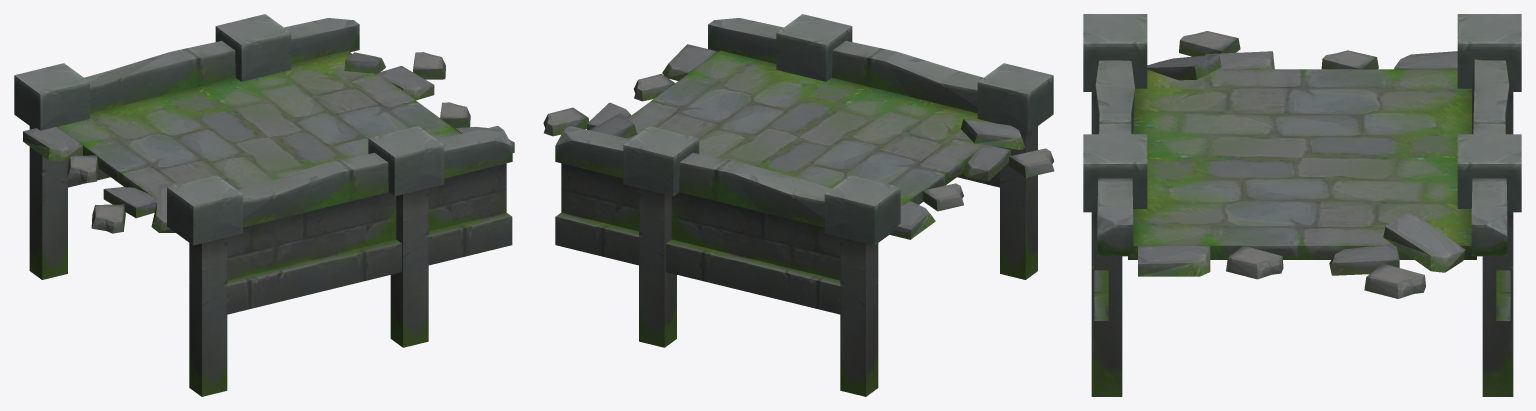
The model's file is scene_shenmisenlin_ssq01.FBX.
3 renders of one model, left to right at view 1: azimuth 30°, elevation 25°; view 2: azimuth 150°, elevation 25°; view 3: azimuth 270°, elevation 25°, orthographic. The views are drawn at different scales.
Parts seen in each view (by area): view 1: scene_shenmisenlin_ssq01; view 2: scene_shenmisenlin_ssq01; view 3: scene_shenmisenlin_ssq01.
Part boxes in pixels (bbox=[...]): scene_shenmisenlin_ssq01: bbox=[14, 14, 514, 396]; scene_shenmisenlin_ssq01: bbox=[543, 14, 1054, 396]; scene_shenmisenlin_ssq01: bbox=[1083, 14, 1521, 396].
Size of the model in its own units: 565 by 245 by 405.
